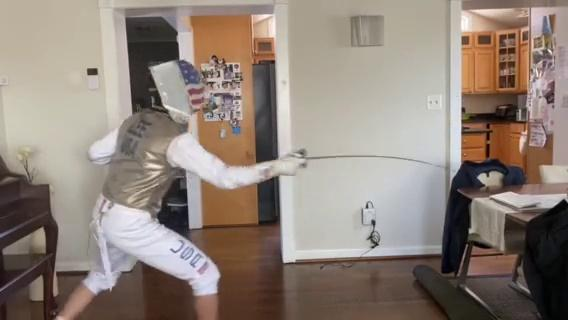blade-guard: (301, 149, 309, 169)
blade-tip: (428, 164, 471, 178)
fencing-blade: (277, 148, 471, 180)
